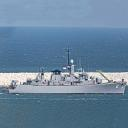Fragata: (3, 47, 128, 96)
